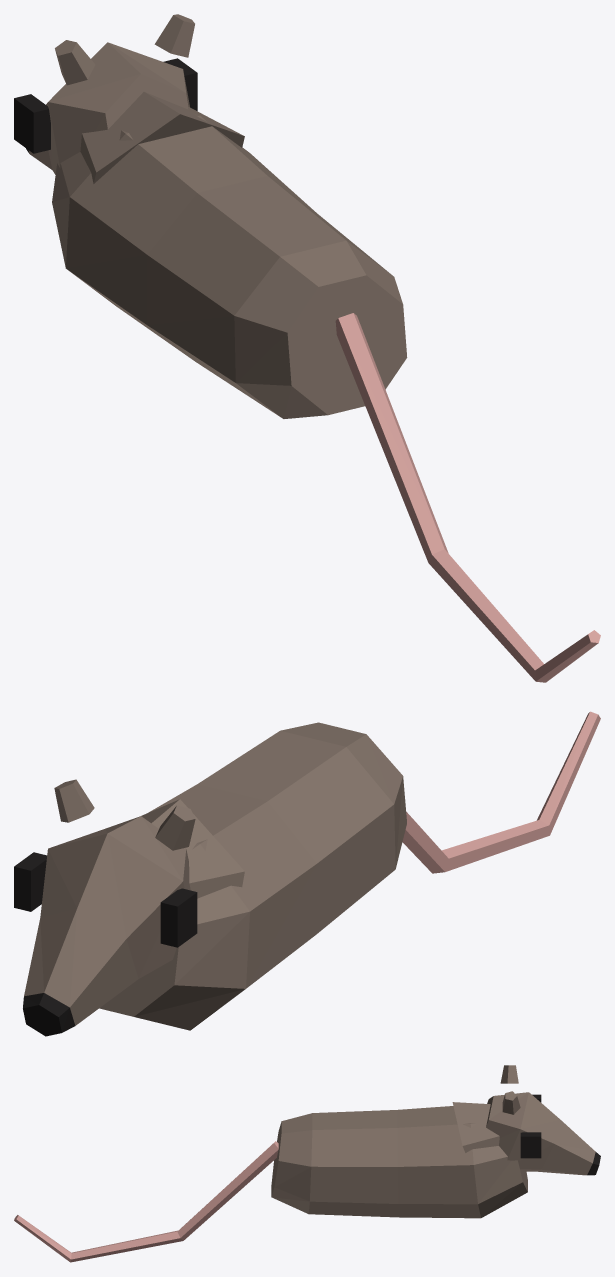
Rendered from animal_rat.obj.
The picture shows the model from 3 angles, top to bottom: view 1: azimuth 30°, elevation 25°; view 2: azimuth 150°, elevation 25°; view 3: azimuth 270°, elevation 25°; orthographic projection. The views are drawn at different scales.
Visible parts, largest first — view 1: animal_rat; view 2: animal_rat; view 3: animal_rat.
Part boxes in pixels (left/top/right/bottom): animal_rat: left=14, top=14, right=600, bottom=682; animal_rat: left=14, top=711, right=600, bottom=1036; animal_rat: left=14, top=1065, right=600, bottom=1262.
Size of the model in its own units: 0.1686 by 0.3117 by 0.9035.
